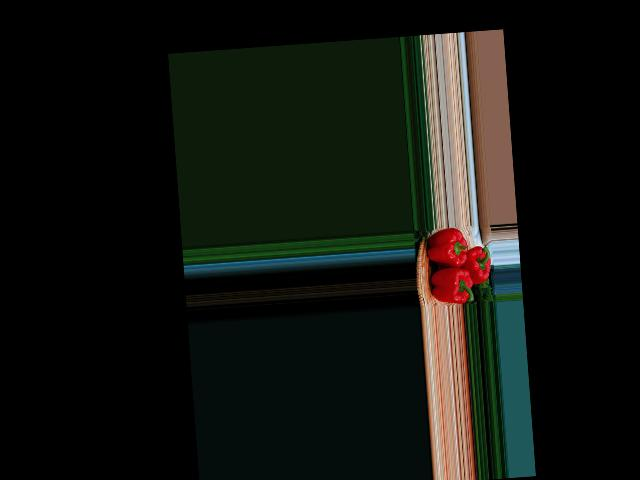bell_pepper: (424, 260, 474, 305)
